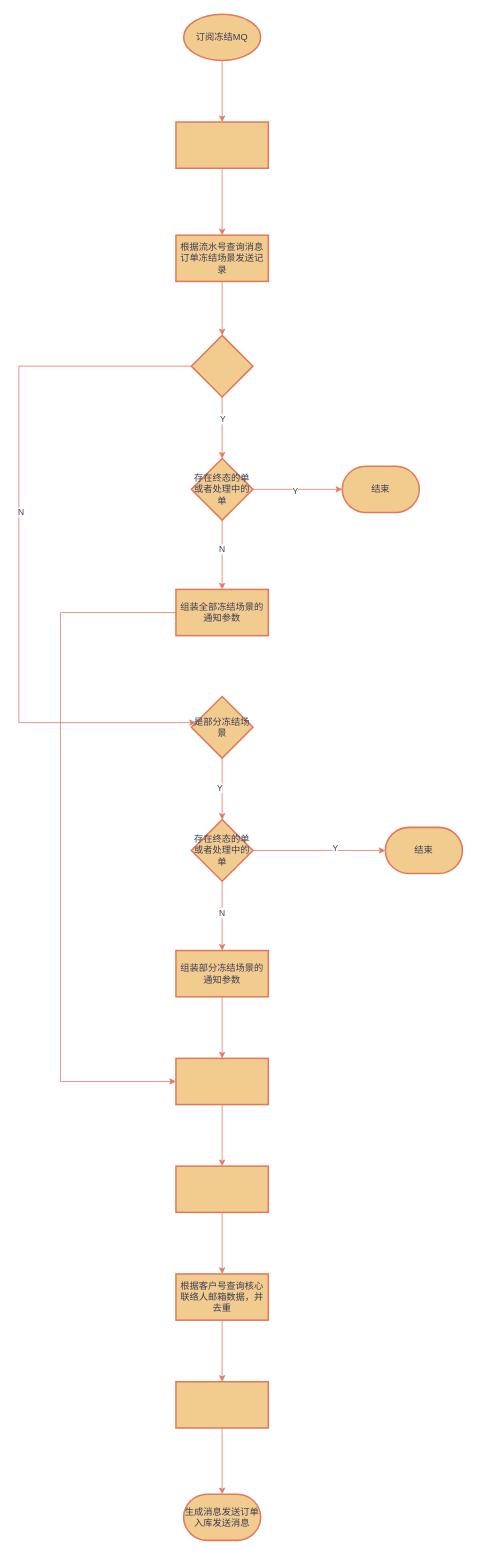
Image size: 477x1554. Some labels were removed from this diagram. Here are the shapes that lost their labels. From the top down, the box of each, then its label:
(175, 121, 269, 169): 报文解析
(190, 334, 253, 397): 是全部冻结场景
(175, 1057, 269, 1105): 根据客户号查询用户列表
(175, 1165, 269, 1213): 过滤出需要接收消息通知的用户并根据邮箱去重
(175, 1381, 269, 1428): 用户邮箱跟联络人邮箱去重处理
